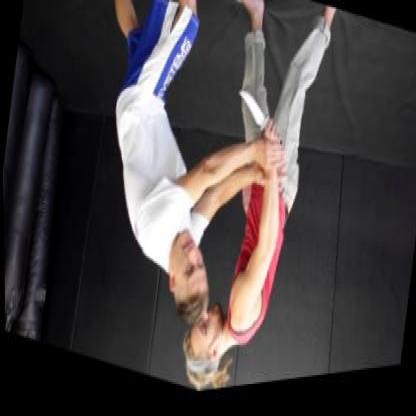knife: (228, 83, 290, 169)
